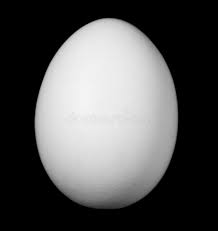eggs: (39, 17, 171, 206)
